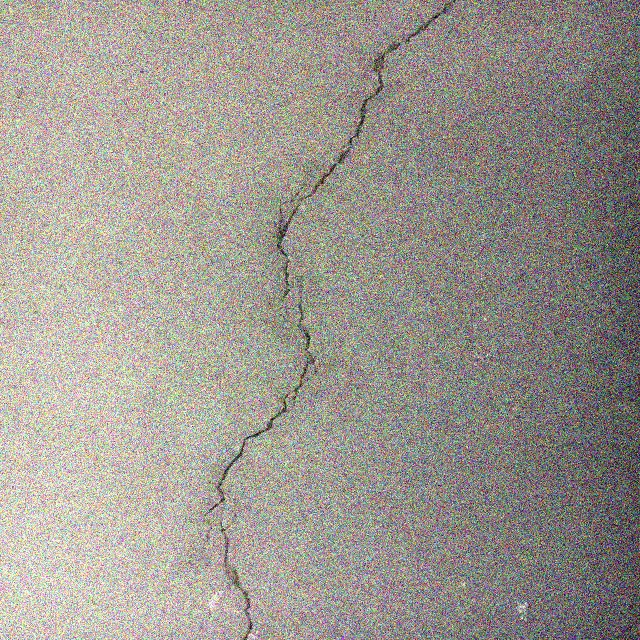SurfaceCrack: (158, 0, 482, 639)
